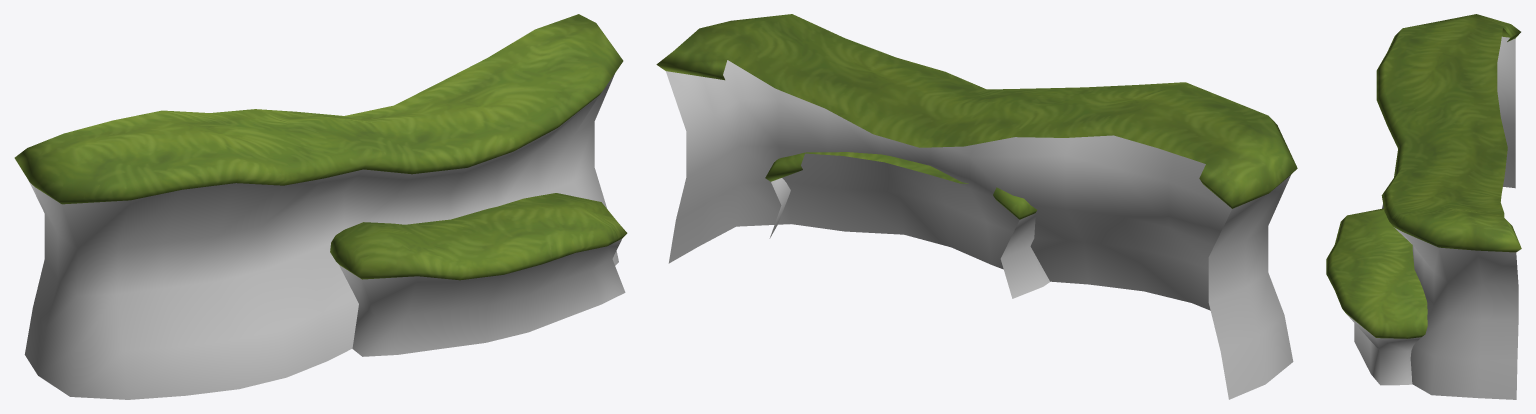
Rendered from cliff.FBX.
The picture shows the model from 3 angles, left to right: view 1: azimuth 30°, elevation 25°; view 2: azimuth 150°, elevation 25°; view 3: azimuth 270°, elevation 25°; orthographic projection. The views are drawn at different scales.
Parts seen in each view (by area): view 1: cliff; view 2: cliff; view 3: cliff.
Boxes of the visible parts, bbox=[...] form: cliff: bbox=[14, 14, 627, 399]; cliff: bbox=[656, 14, 1297, 399]; cliff: bbox=[1326, 14, 1521, 399].
Size of the model in its own units: 38.62 by 14.6 by 14.34.
